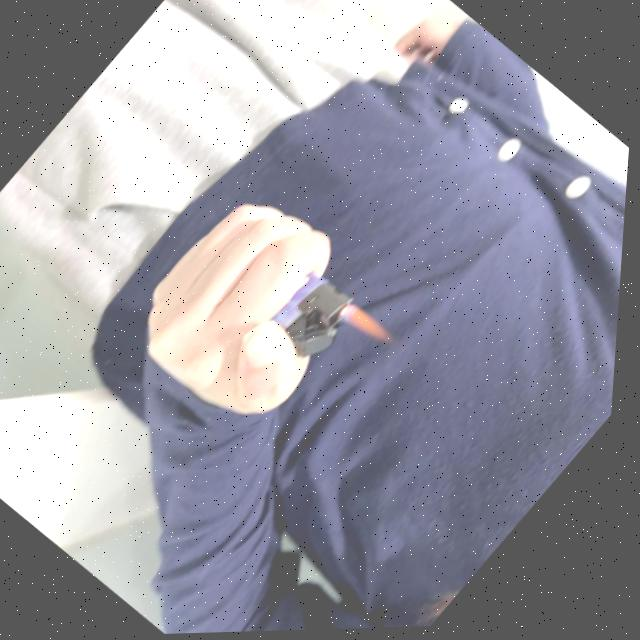Fire: (339, 301, 402, 356)
